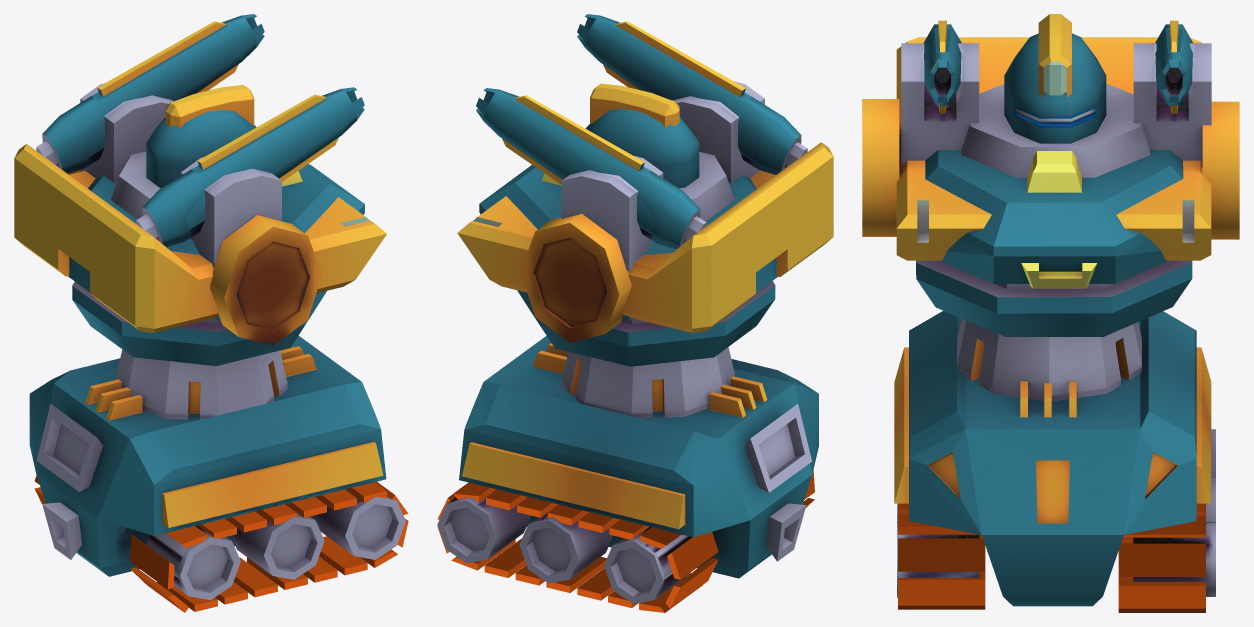
Rendered from Player_Idle6.obj.
3 renders of one model, left to right at view 1: azimuth 30°, elevation 25°; view 2: azimuth 150°, elevation 25°; view 3: azimuth 270°, elevation 25°, orthographic. The views are drawn at different scales.
Visible parts, largest first — view 1: Object004, Object008, Object014, Box009, Box017; view 2: Object004, Object008, Object014, Box009, Box016; view 3: Object004, Object008, Box016, Box017, Object014, Box009.
Boxes of the visible parts, x1,y1,x2,y2 form: Object004: (14,83,386,365); Object008: (29,335,386,576); Object014: (36,14,364,246); Box009: (146,496,405,600); Box017: (130,481,408,612); Object004: (457,81,833,366); Object008: (459,336,818,578); Object014: (476,14,807,249); Box009: (437,489,692,604); Box016: (437,482,718,612); Object004: (862,14,1239,336); Object008: (894,311,1211,606); Box016: (1118,503,1205,612); Box017: (898,503,985,609); Object014: (923,20,1192,114); Box009: (897,429,1215,597).
Size of the model in its own units: 54.79 by 83.14 by 52.49.
2 materials, 1 textured.
